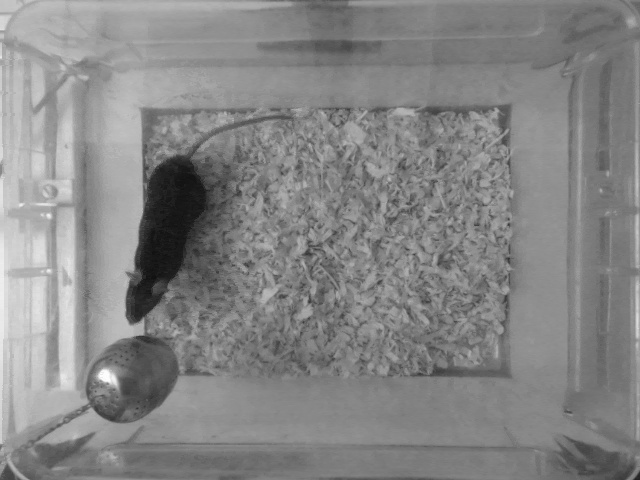mice: (121, 112, 300, 327)
